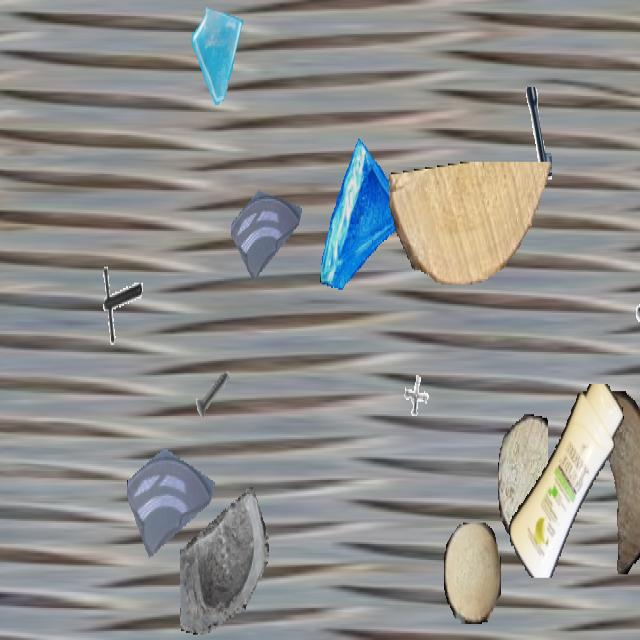glass: (318, 137, 412, 304), (180, 482, 268, 638), (127, 416, 215, 572), (231, 162, 303, 290), (190, 2, 248, 105)
metal: (494, 87, 552, 190), (94, 261, 142, 347), (192, 357, 234, 432), (398, 361, 438, 432), (635, 270, 640, 366)
plastic: (506, 384, 628, 576)
wood: (389, 162, 555, 282), (585, 391, 640, 573), (498, 414, 548, 542), (444, 523, 500, 622)
